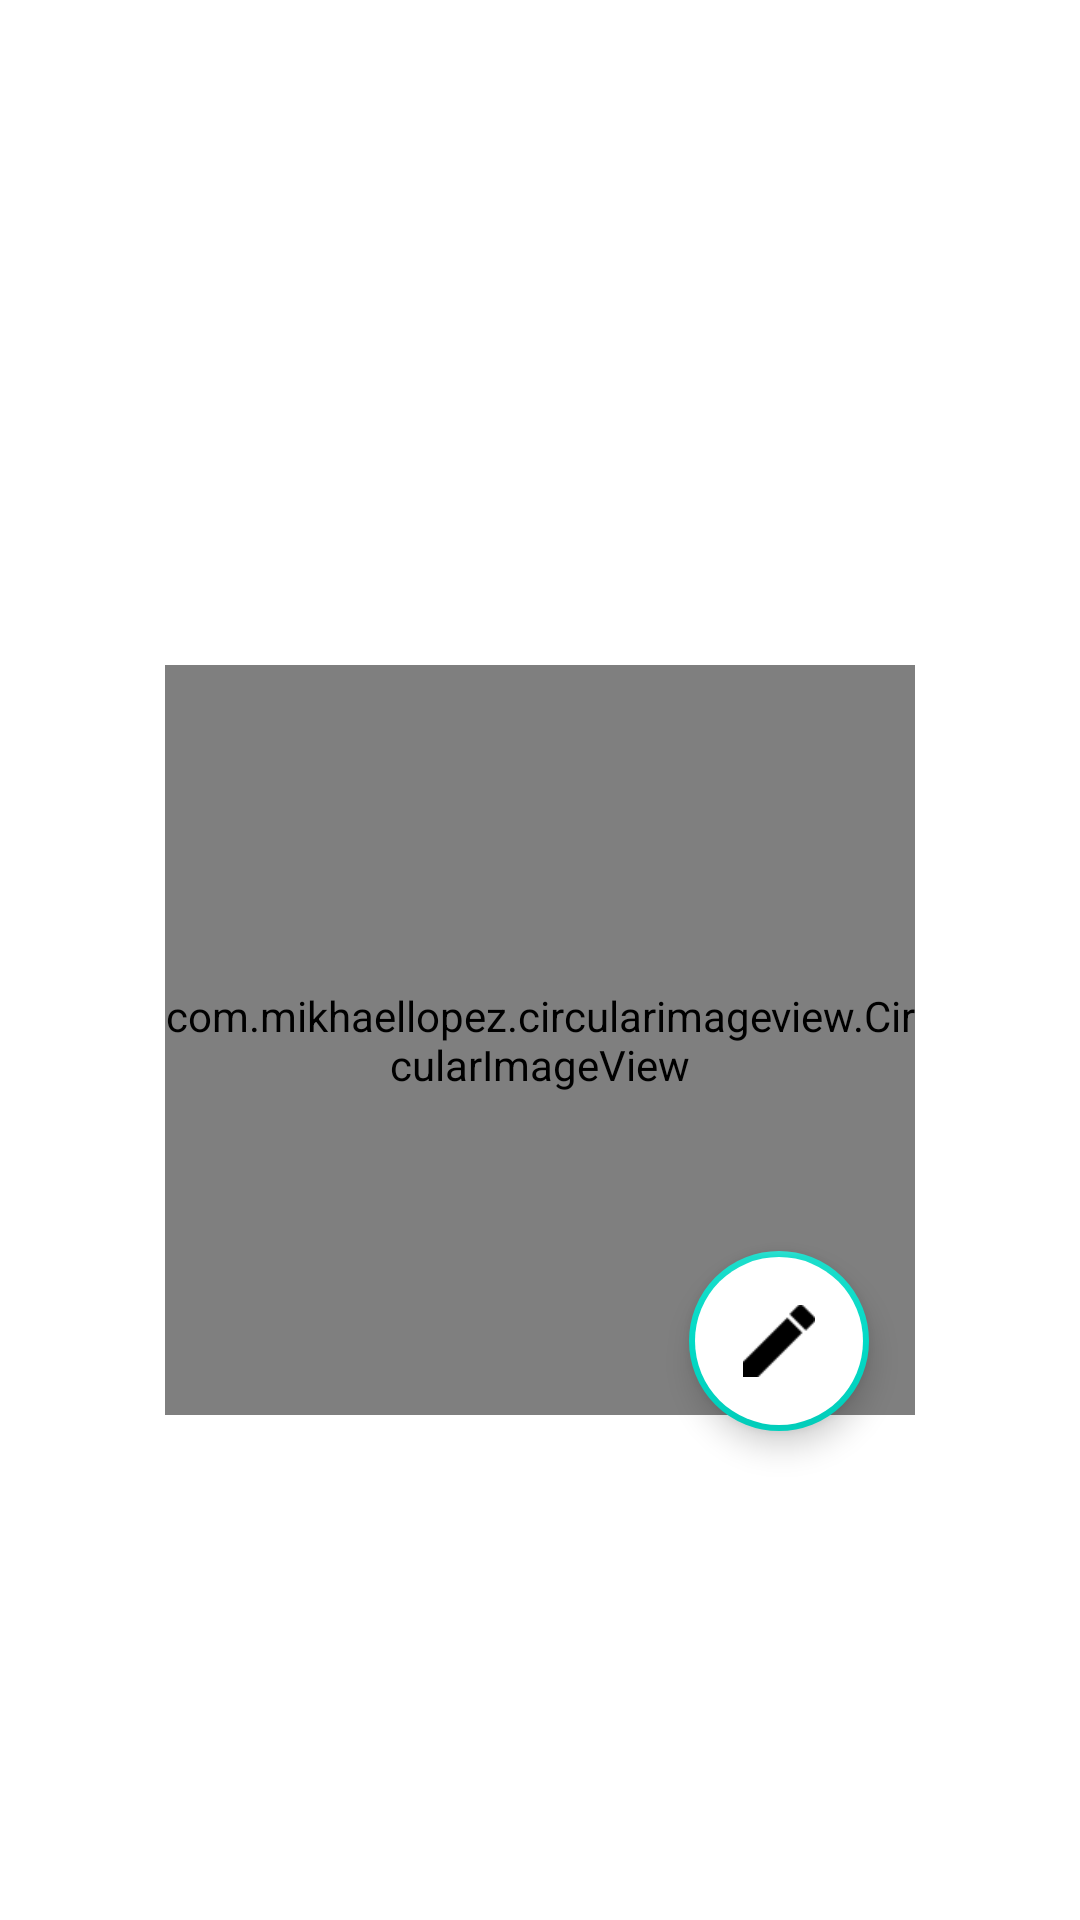

Icon click points for this 1080×1920 phone screenshot, format point (x, y):
edit profile picture: point (779, 1341)
